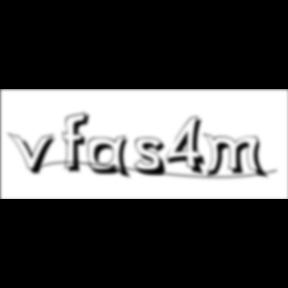4: (166, 115, 212, 179)
a: (88, 135, 136, 182)
f: (63, 111, 96, 175)
m: (203, 132, 271, 181)
s: (134, 137, 174, 179)
v: (8, 131, 62, 177)
